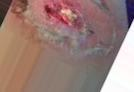Spider: (27, 0, 102, 51)
